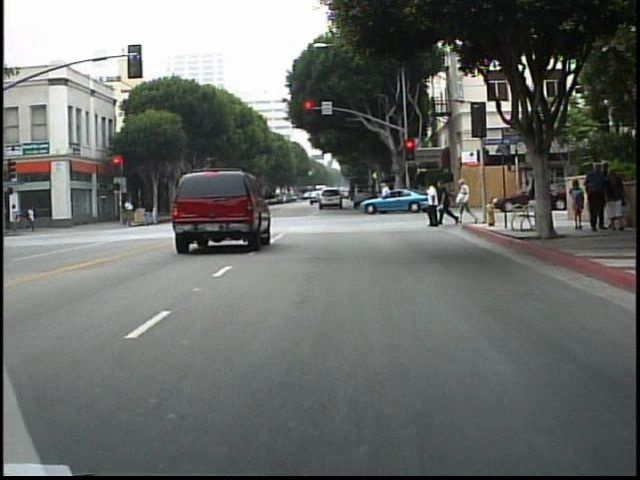person: (565, 177, 586, 234), (527, 166, 546, 227), (423, 182, 445, 229), (440, 179, 459, 228), (459, 178, 477, 228), (232, 180, 250, 227), (379, 178, 397, 216), (143, 192, 159, 230), (9, 200, 25, 235), (25, 201, 41, 236), (124, 195, 138, 229), (404, 181, 417, 215), (365, 183, 380, 200)
